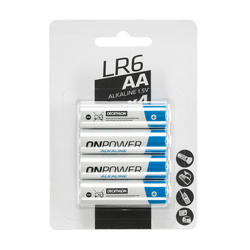Battery: (78, 102, 169, 130), (78, 155, 170, 180), (79, 181, 171, 206), (78, 132, 169, 154)
